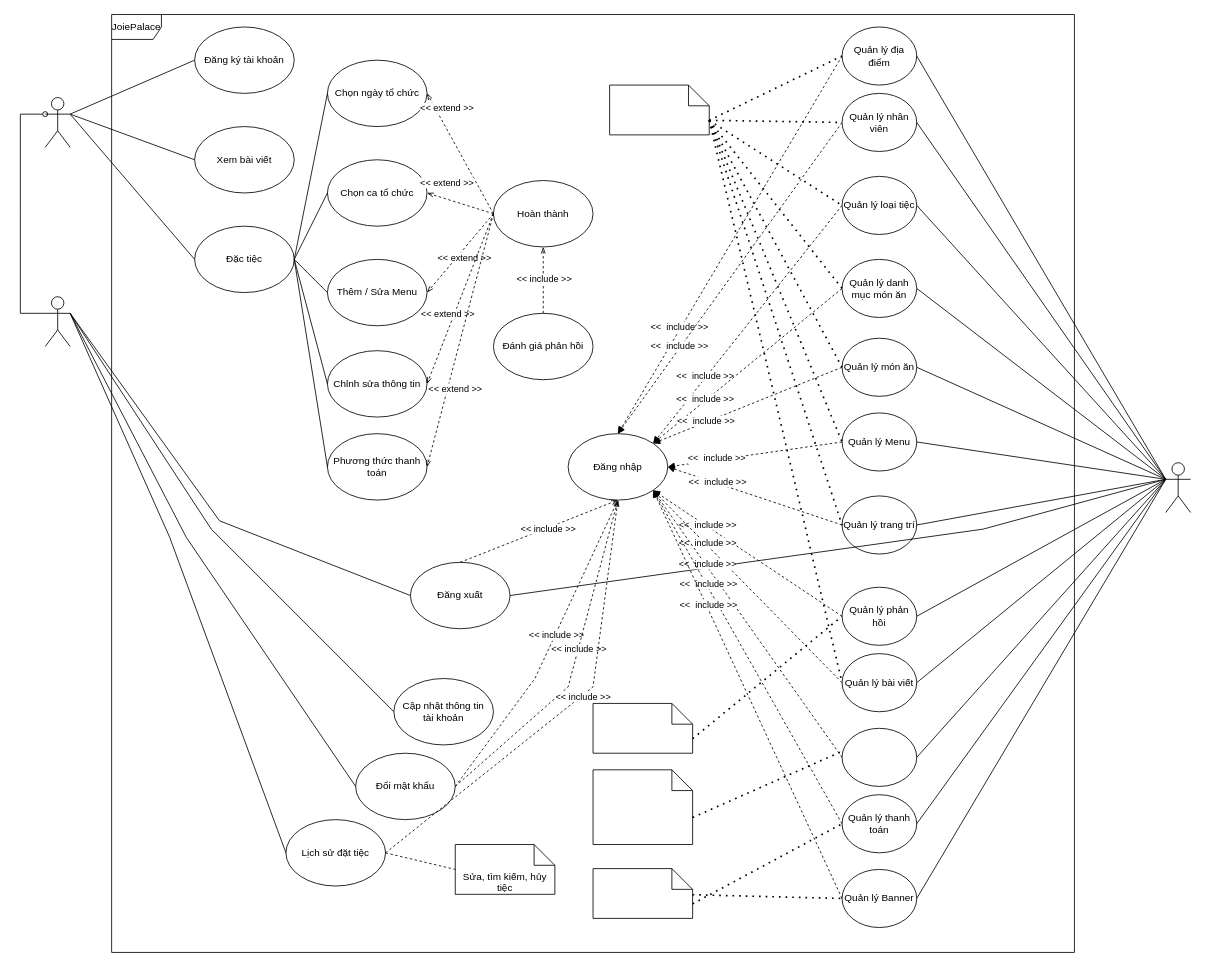
Image size: 1221x967. Some labels were removed from this diagram. Each missing label, with the centre of its shape:
"Duyệt, xóa phản hồi" goes at [642,728].
"Khách hàng vãng lai" goes at [57,122].
"Khách hàng đã đăng ký" goes at [57,321].
"Quản trị viên" goes at [1178,487].
"Thêm, sửa xóa" goes at [642,893].
"Thêm, sửa, xóa, tìm kiếm, phân trang" goes at [659,109].
"Thống kê" goes at [879,756].
"Thống kế doanh thu theo ngày, tuần, tháng, năm" goes at [642,807].
